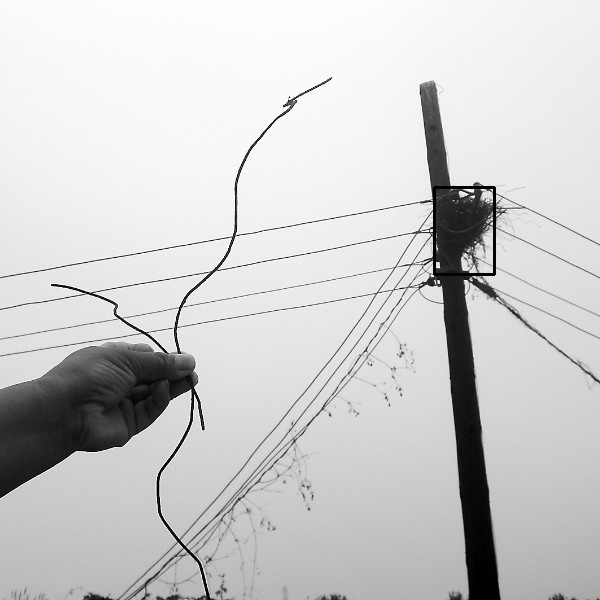bird-nest: (441, 194, 502, 250)
